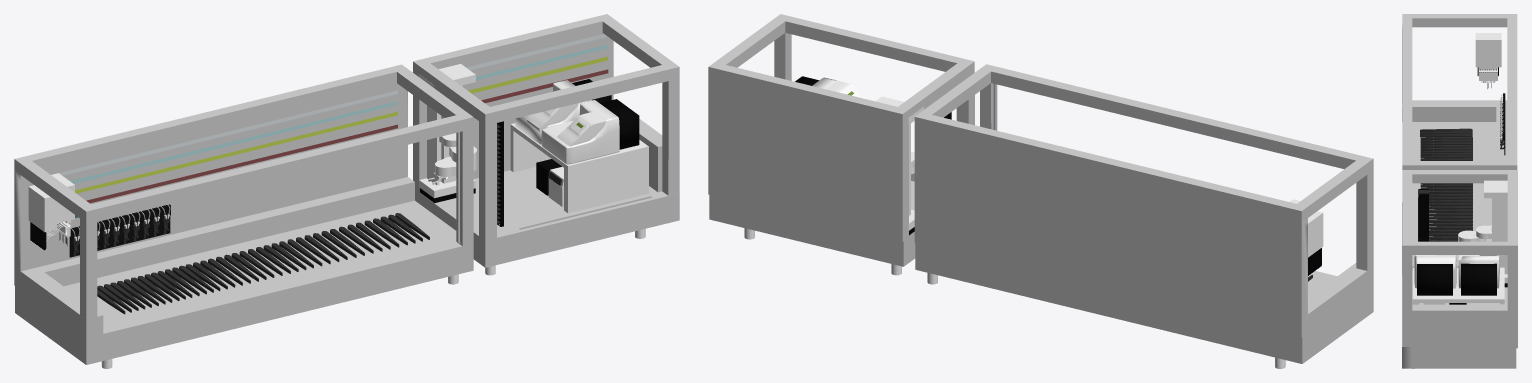
File: WorkElisa.glb
3 renders of one model, left to right at view 1: azimuth 30°, elevation 25°; view 2: azimuth 150°, elevation 25°; view 3: azimuth 270°, elevation 25°, orthographic. The views are drawn at different scales.
Parts seen in each view (by area): view 1: pasted__pCube688, rediseño:pCube1.018, polySurface228, polySurface338.001, pasted__polySurface142, polySurface258, agujas:sweep3, pCube1181, pCube1182, pCube1183, pCube1184, polySurface238 (+7 smaller); view 2: pasted__pCube688, agujas:sweep3, polySurface338.001; view 3: pasted__pCube688, rediseño:pCube1.018, polySurface338.001, agujas:sweep3, polySurface361, polySurface228, polySurface238, placas_rediseño:pCube111, polySurface258, polySurface261, pasted__polySurface142.
Boxes of the visible parts, bbox=[...] form: pasted__pCube688: bbox=[14, 14, 679, 364]; rediseño:pCube1.018: bbox=[97, 213, 429, 314]; polySurface228: bbox=[510, 123, 648, 213]; polySurface338.001: bbox=[419, 64, 477, 198]; pasted__polySurface142: bbox=[69, 204, 170, 257]; polySurface258: bbox=[541, 100, 619, 164]; agujas:sweep3: bbox=[28, 173, 74, 250]; pCube1181: bbox=[59, 90, 397, 175]; pCube1182: bbox=[70, 101, 397, 183]; pCube1183: bbox=[75, 111, 397, 193]; pCube1184: bbox=[86, 124, 397, 203]; polySurface238: bbox=[600, 99, 639, 149]; pasted__pCube688: bbox=[708, 14, 1373, 363]; agujas:sweep3: bbox=[1289, 199, 1323, 275]; polySurface338.001: bbox=[875, 96, 923, 230]; pasted__pCube688: bbox=[1402, 14, 1517, 368]; rediseño:pCube1.018: bbox=[1420, 128, 1472, 241]; polySurface338.001: bbox=[1458, 180, 1507, 283]; agujas:sweep3: bbox=[1475, 33, 1501, 82]; polySurface361: bbox=[1461, 263, 1496, 295]; polySurface228: bbox=[1412, 267, 1504, 304]; polySurface238: bbox=[1417, 264, 1452, 295]; placas_rediseño:pCube111: bbox=[1418, 189, 1428, 241]; polySurface258: bbox=[1414, 255, 1456, 288]; polySurface261: bbox=[1458, 255, 1499, 288]; pasted__polySurface142: bbox=[1500, 93, 1505, 155].
Bounding box in the file's own units: 12.06 × 3.25 × 2.54.
